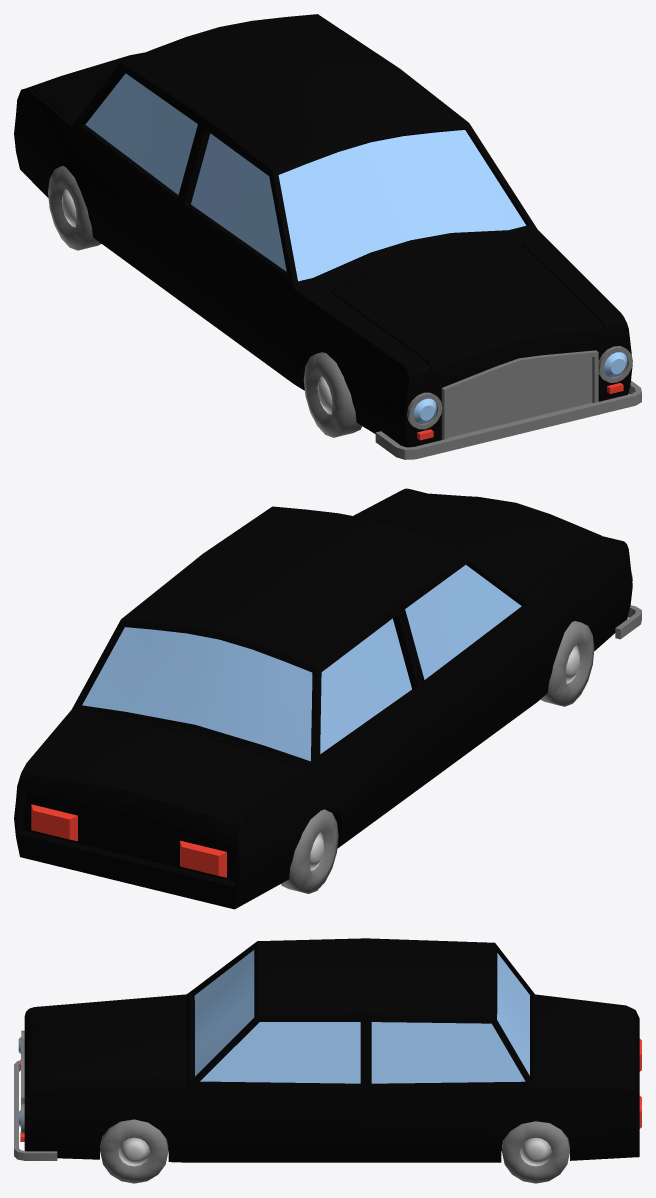
The model's file is P_Car_02.dae.
3 renders of one model, top to bottom at view 1: azimuth 30°, elevation 25°; view 2: azimuth 150°, elevation 25°; view 3: azimuth 270°, elevation 25°, orthographic. The views are drawn at different scales.
Parts seen in each view (by area): view 1: Cube, Cylinder.005; view 2: Cube, Cylinder.005; view 3: Cube, Cylinder.005.
Part boxes in pixels (x1,y1,x2,y2): Cube: (14,14,641,459); Cylinder.005: (48,166,362,437); Cube: (14,488,641,909); Cylinder.005: (281,621,594,893); Cube: (14,938,641,1162); Cylinder.005: (100,1119,569,1183).
Bounding box in the file's own units: 3.12 × 8.38 × 2.48.
